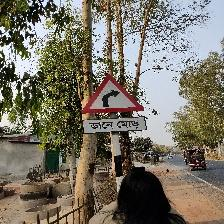Right-turn: (81, 74, 146, 135)
